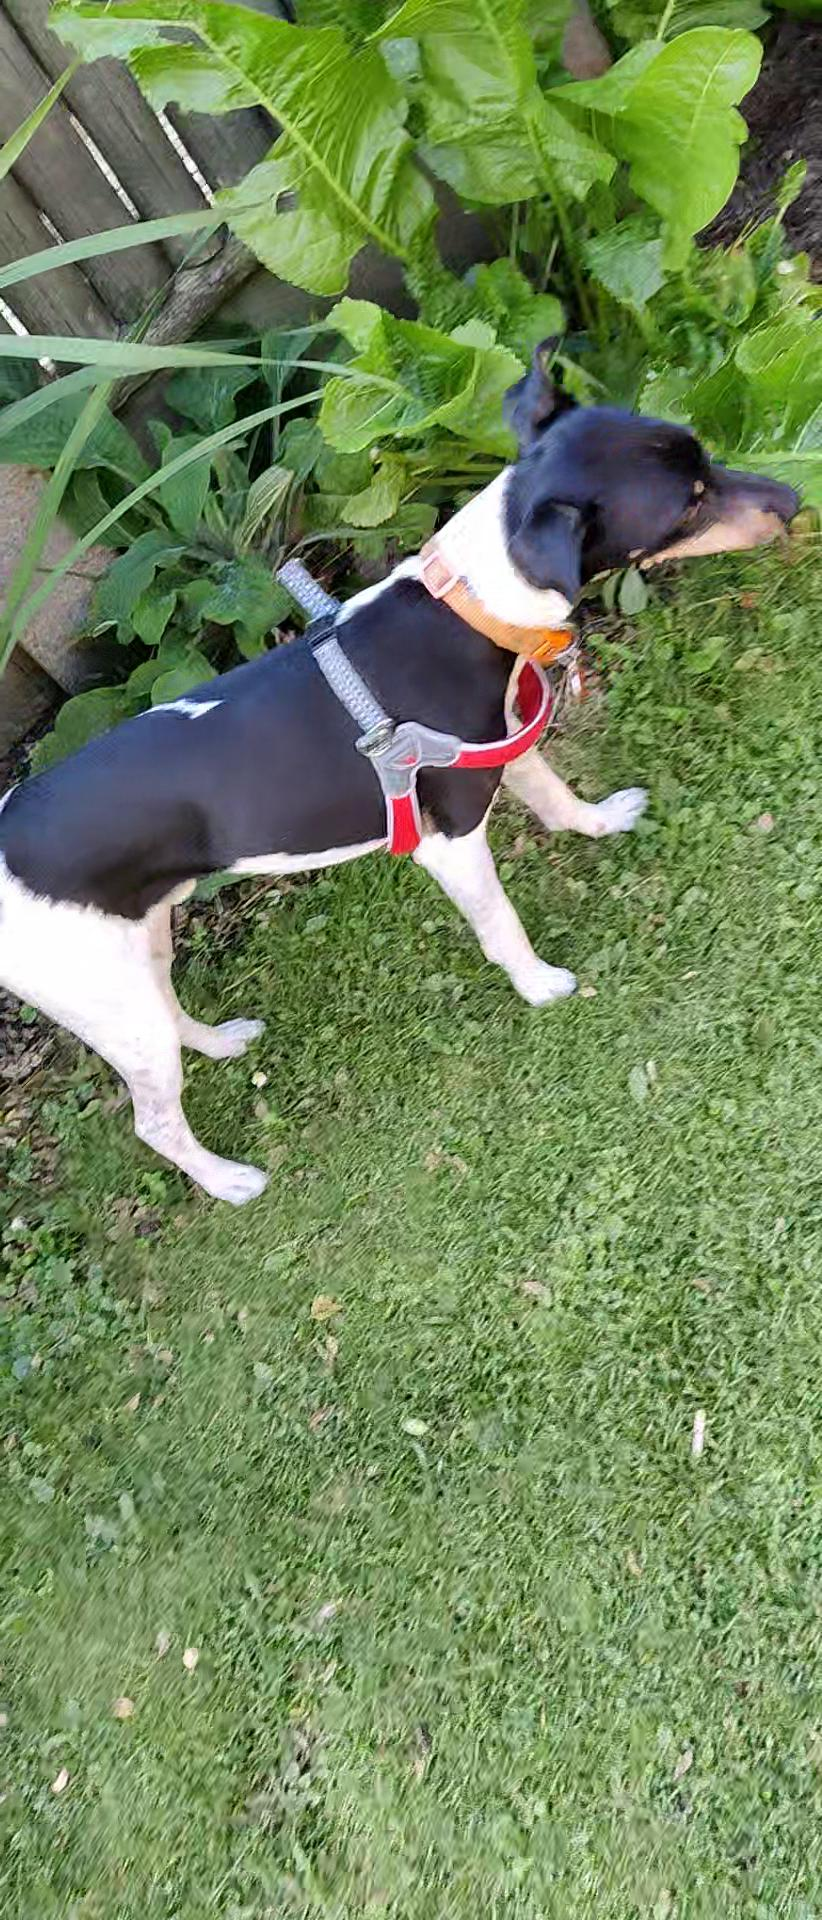Dog: (0, 326, 809, 1211)
